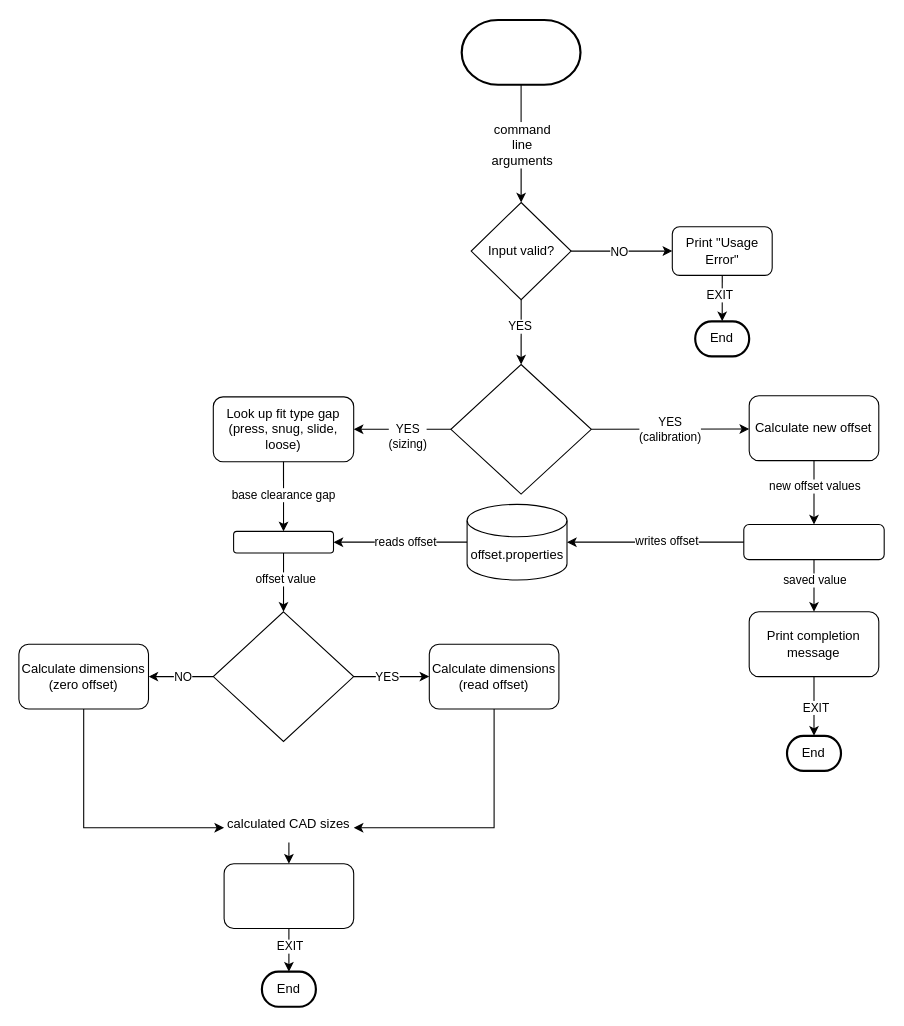
Some shapes in this 904 by 1026 pixel diagram are drawn without their labels. Here are the shapes that lost their labels. From the top down, the centre of each, then its label:
(520,51): Start: user runs 3DFitter
(520,428): Which mode (argument 1)
(283,541): Read offset file
(813,541): Save new offset to file
(283,676): Valid offset found?
(288,895): Print hole/peg dimensions
